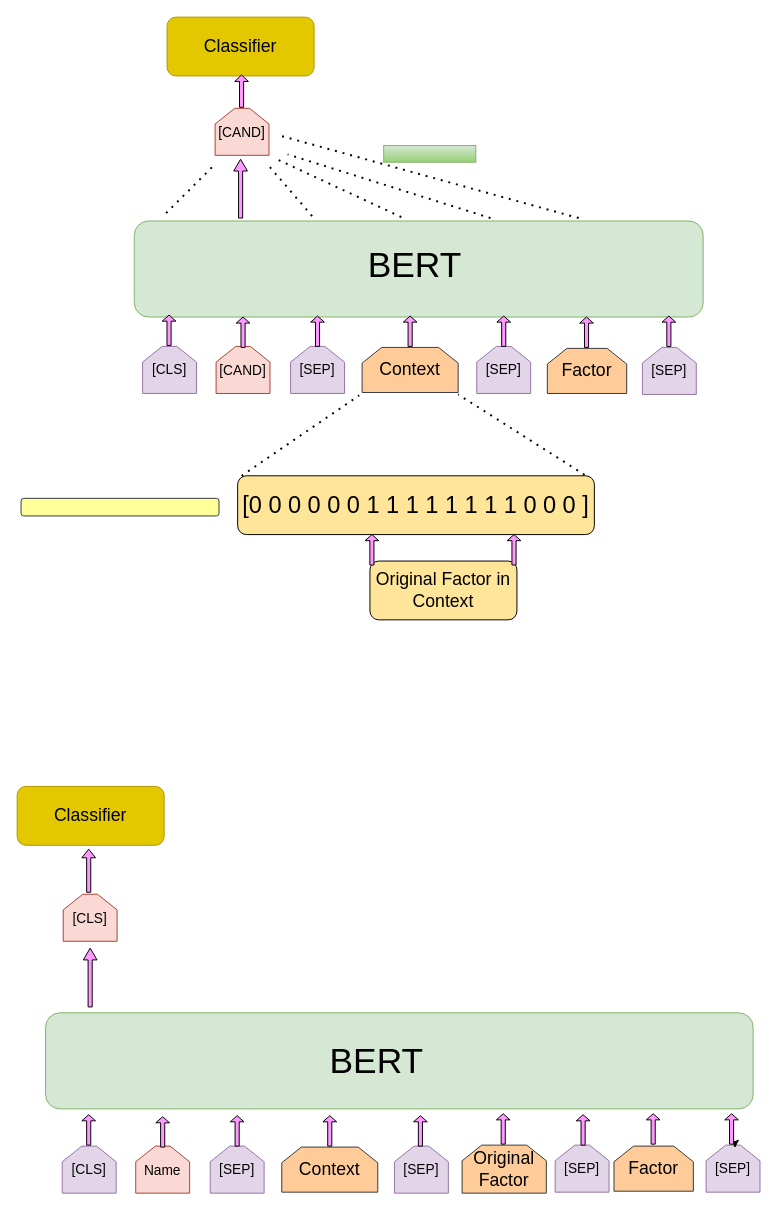
Some shapes in this 777 by 1210 pixel diagram are drawn without their labels. The box of each missing label's shape, as (x1, y1, x2, y2) in pixels:
Context Token_type_ids: (20, 497, 219, 516)
Self-Attention: (383, 145, 476, 162)
